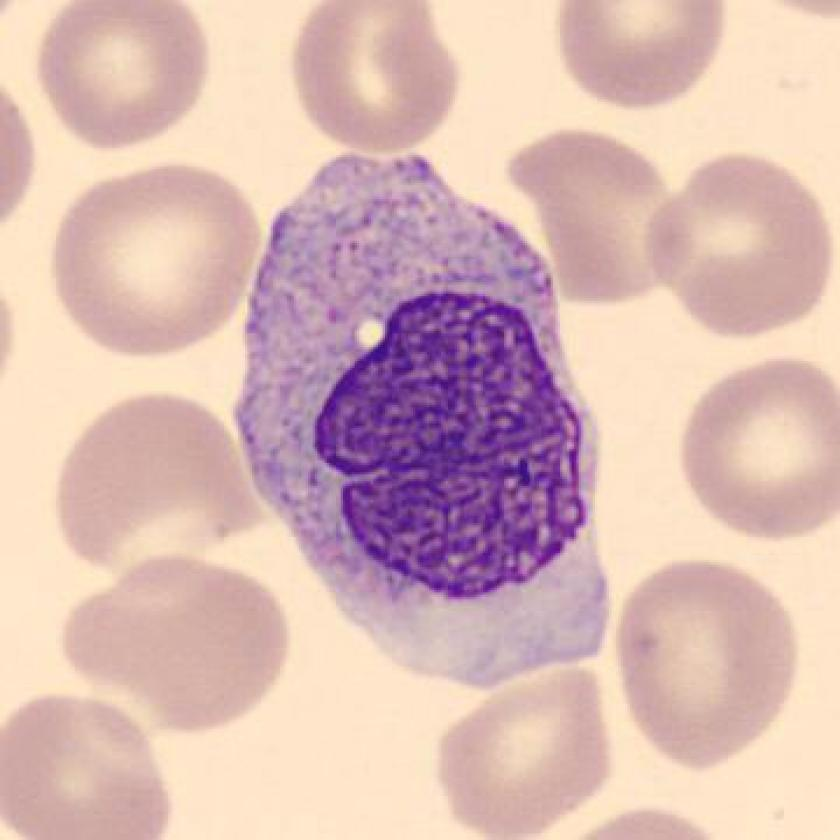monocyte: (211, 131, 633, 709)
